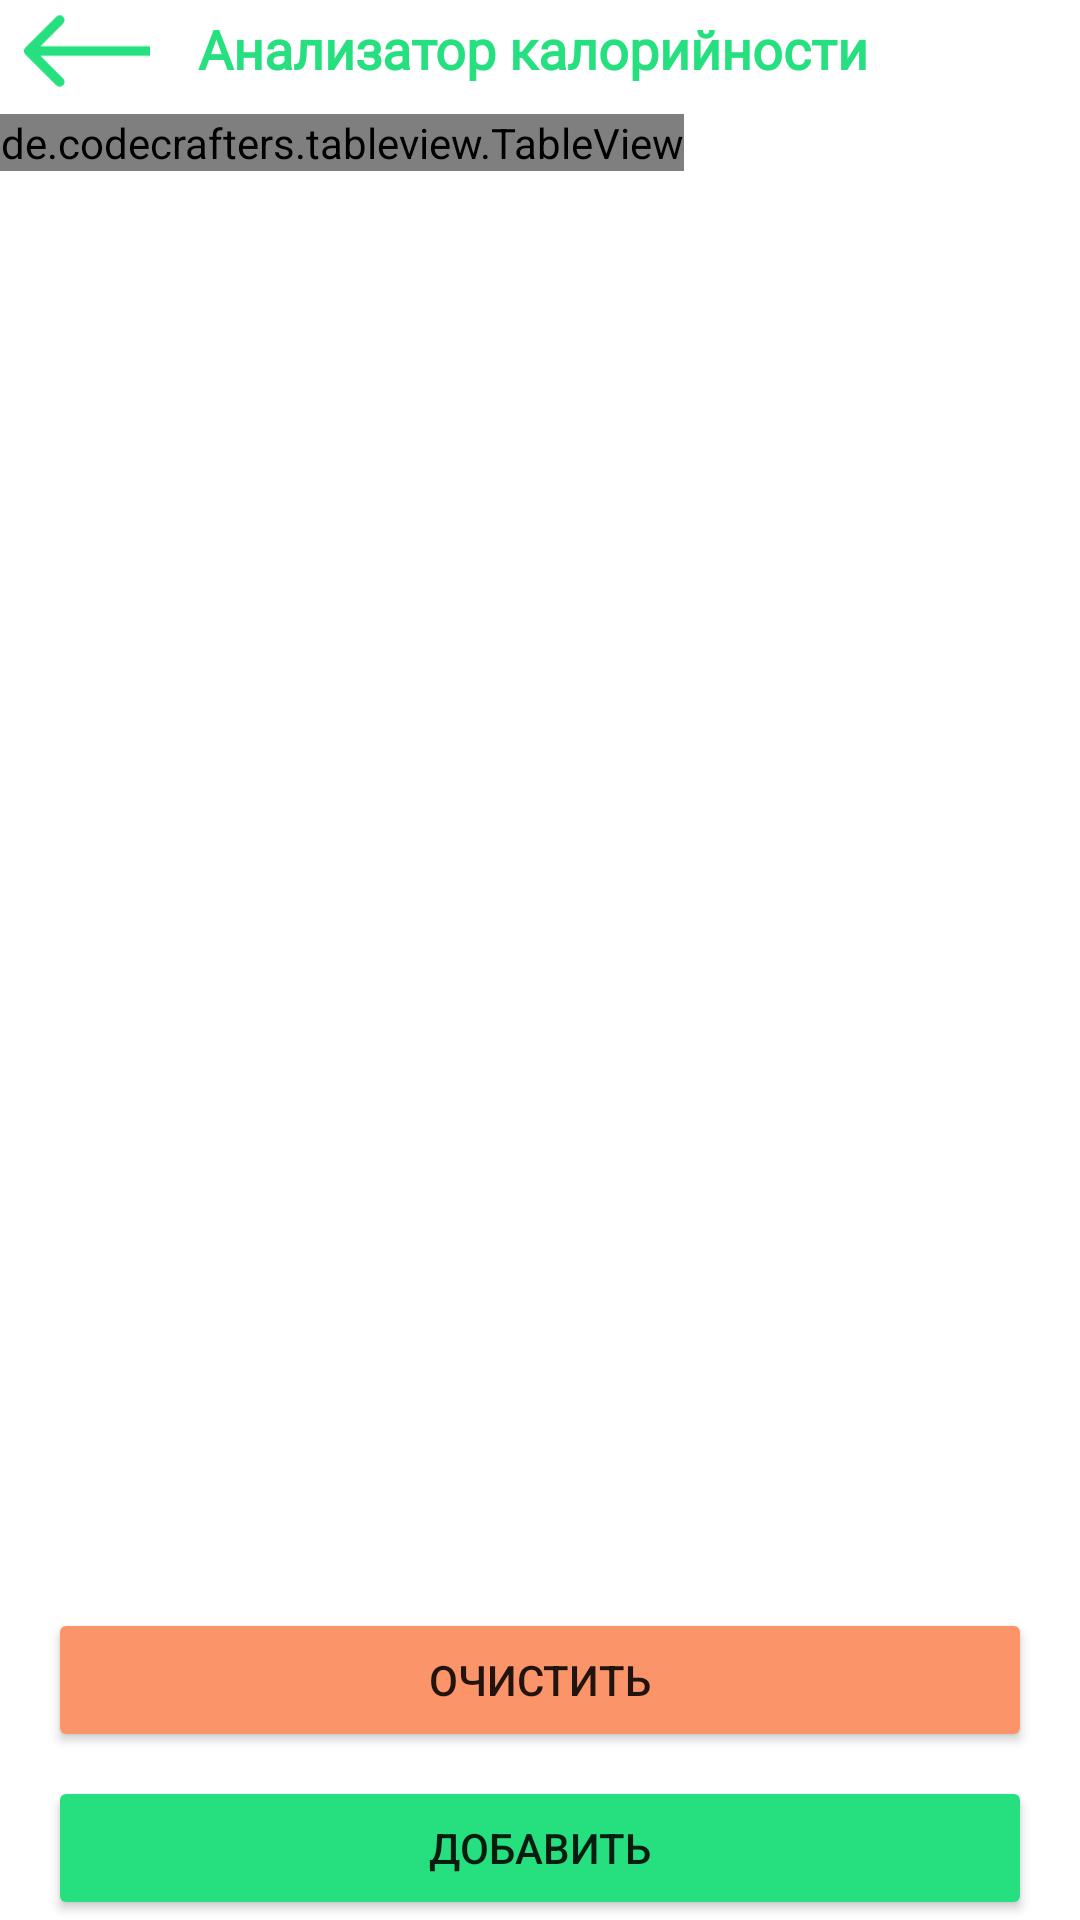

Icon bounding boxes for this 1080×1920 phone screenshot, format box=[x1, y1, x2, y2]:
arrow: box=[24, 15, 150, 87]
